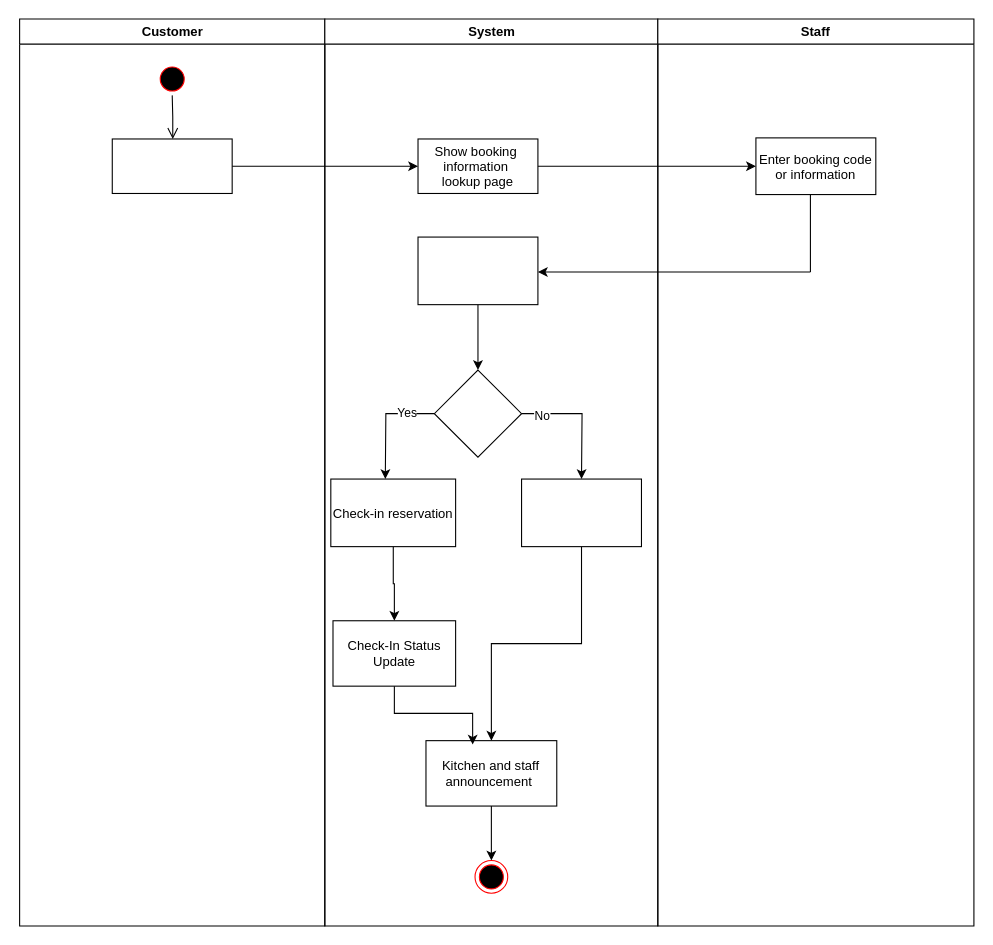
Some shapes in this 993 by 945 pixel diagram are drawn without their labels. The shapes that lost their labels are listed below. From the top down, each one's box as (x1, y1, x2, y2) in pixels, then its label:
(111, 138, 232, 193): Booking Notice
(417, 236, 538, 305): Retrieve booking information
(433, 369, 522, 457): Does the reservation exist?
(520, 478, 641, 547): Show error 'No booking found'
